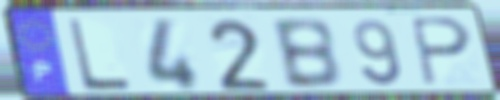2: (206, 15, 275, 93)
4: (144, 16, 203, 94)
9: (350, 17, 404, 88)
B: (267, 15, 345, 91)
L: (64, 17, 134, 94)
P: (407, 15, 476, 89)
